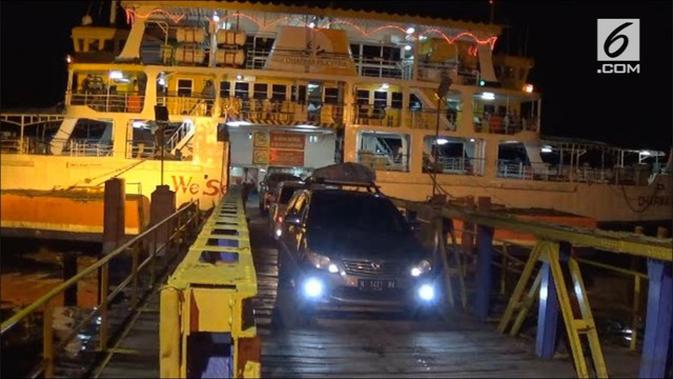plate: (357, 278, 399, 294)
